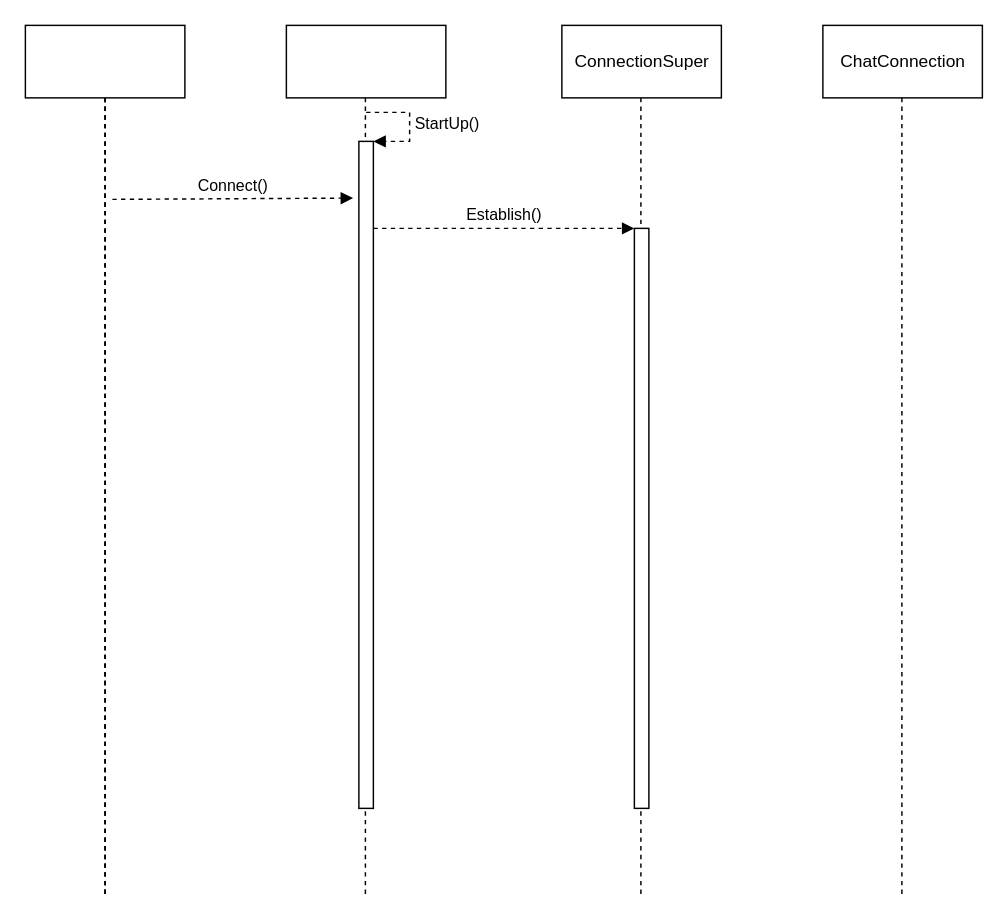
Some shapes in this 1008 by 922 pixel diagram are drawn without their labels. Each missing label, with the centre of its shape:
"ChatClient" goes at (x=104, y=61).
"Server" goes at (x=365, y=61).
